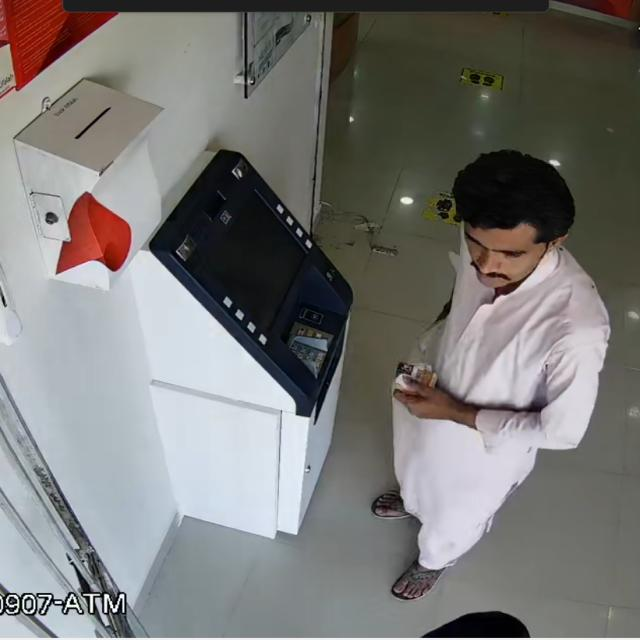note: (387, 364, 443, 391)
